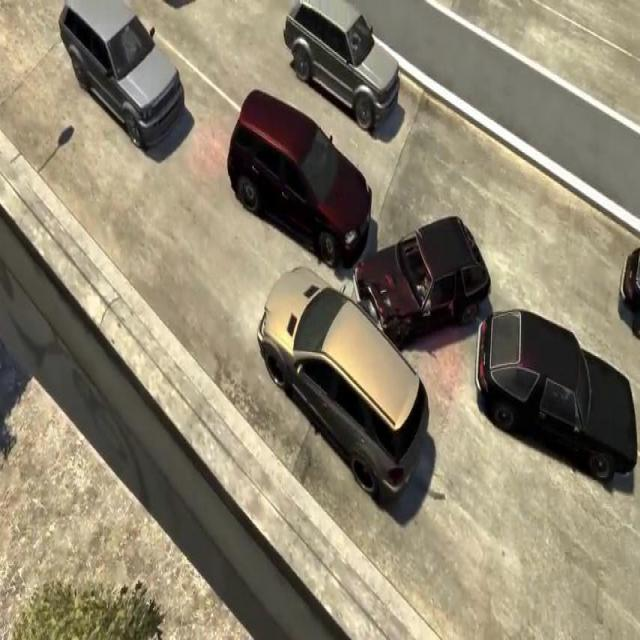moderate: (255, 209, 494, 507)
